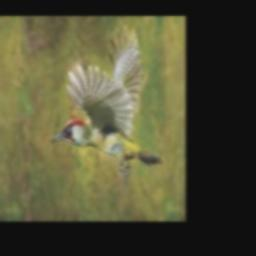Woodpecker: (51, 24, 165, 177)
